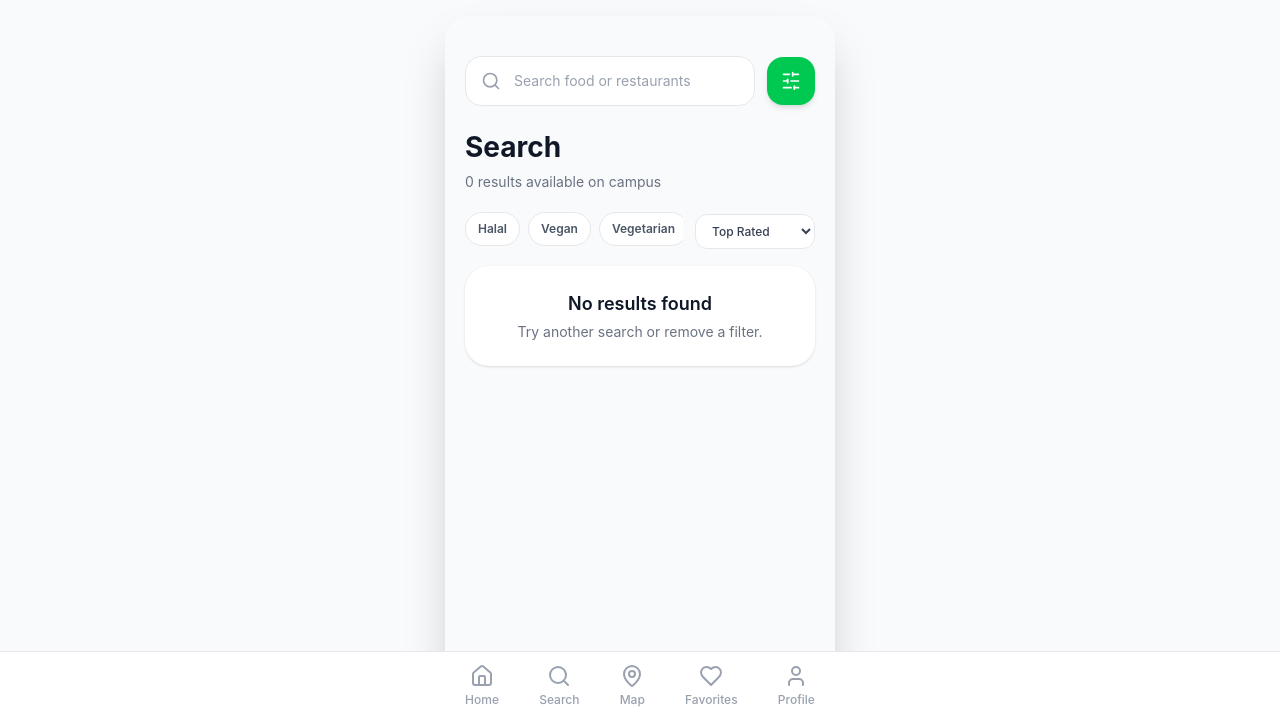
Scenario: SearchPage › submits trimmed search text and renders returned food
expect the text "No results found" is shown: met, box [568,293,712,314]
Type "  vegan  " into the field with placeholder "Search food or restaurants" at (610, 81), box [465,56,755,106]
Then press Enter
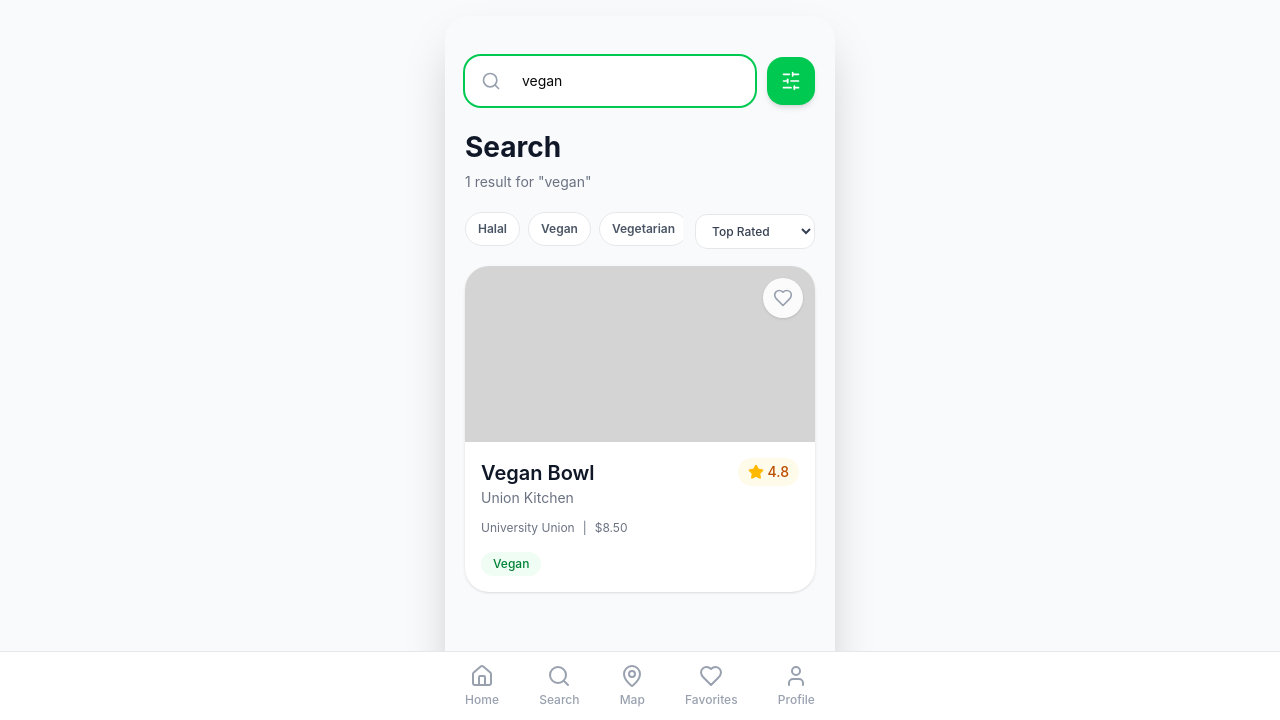
expect the heading "Vegan Bowl" is shown: met, box [481,458,595,488]
